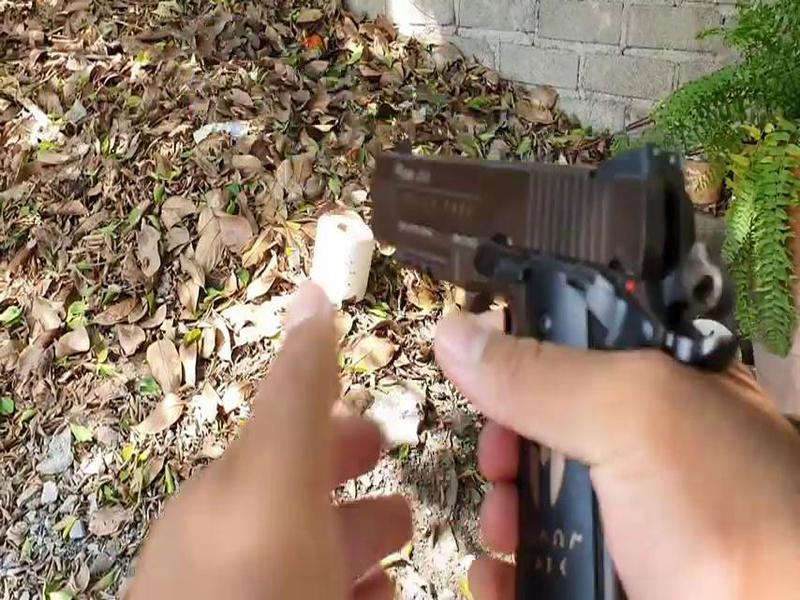Pistola: (337, 101, 761, 474)
